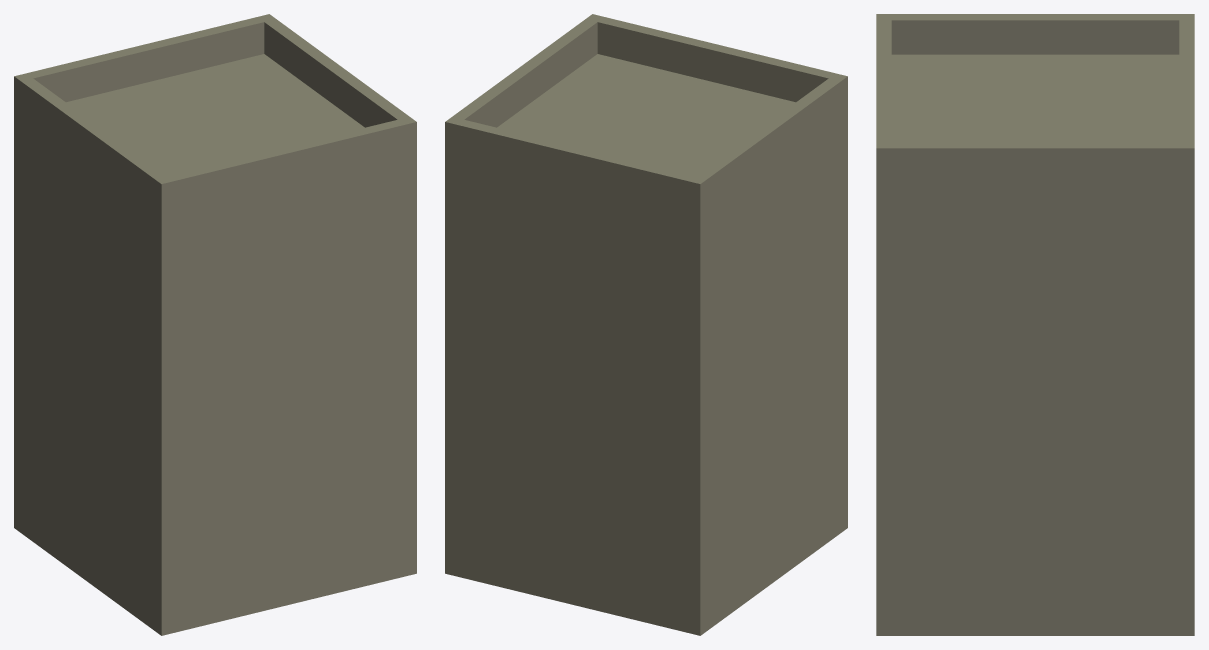
File: ruin-tower.far-facades-v2.lod2.glb
3 views of the same model, side by side, from view 1: azimuth 30°, elevation 25°; view 2: azimuth 150°, elevation 25°; view 3: azimuth 270°, elevation 25° (orthographic). The views are drawn at different scales.
Parts seen in each view (by area): view 1: ruin-tower; view 2: ruin-tower; view 3: ruin-tower.
Part boxes in pixels (x1=…): ruin-tower: x1=14, y1=14, x2=416, y2=635; ruin-tower: x1=445, y1=14, x2=847, y2=635; ruin-tower: x1=876, y1=14, x2=1194, y2=635.
Size of the model in its own units: 8.4 by 14.2 by 8.4.
